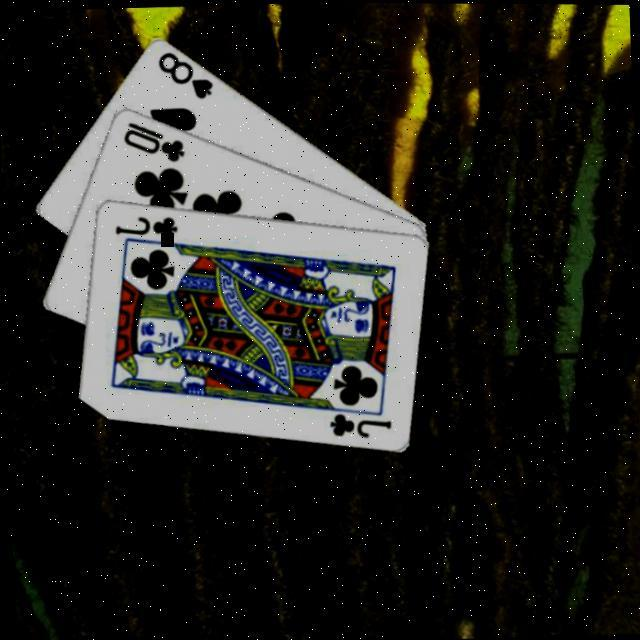10C: (117, 118, 187, 167)
8S: (152, 47, 214, 103)
JC: (109, 212, 178, 245), (323, 409, 392, 442)
